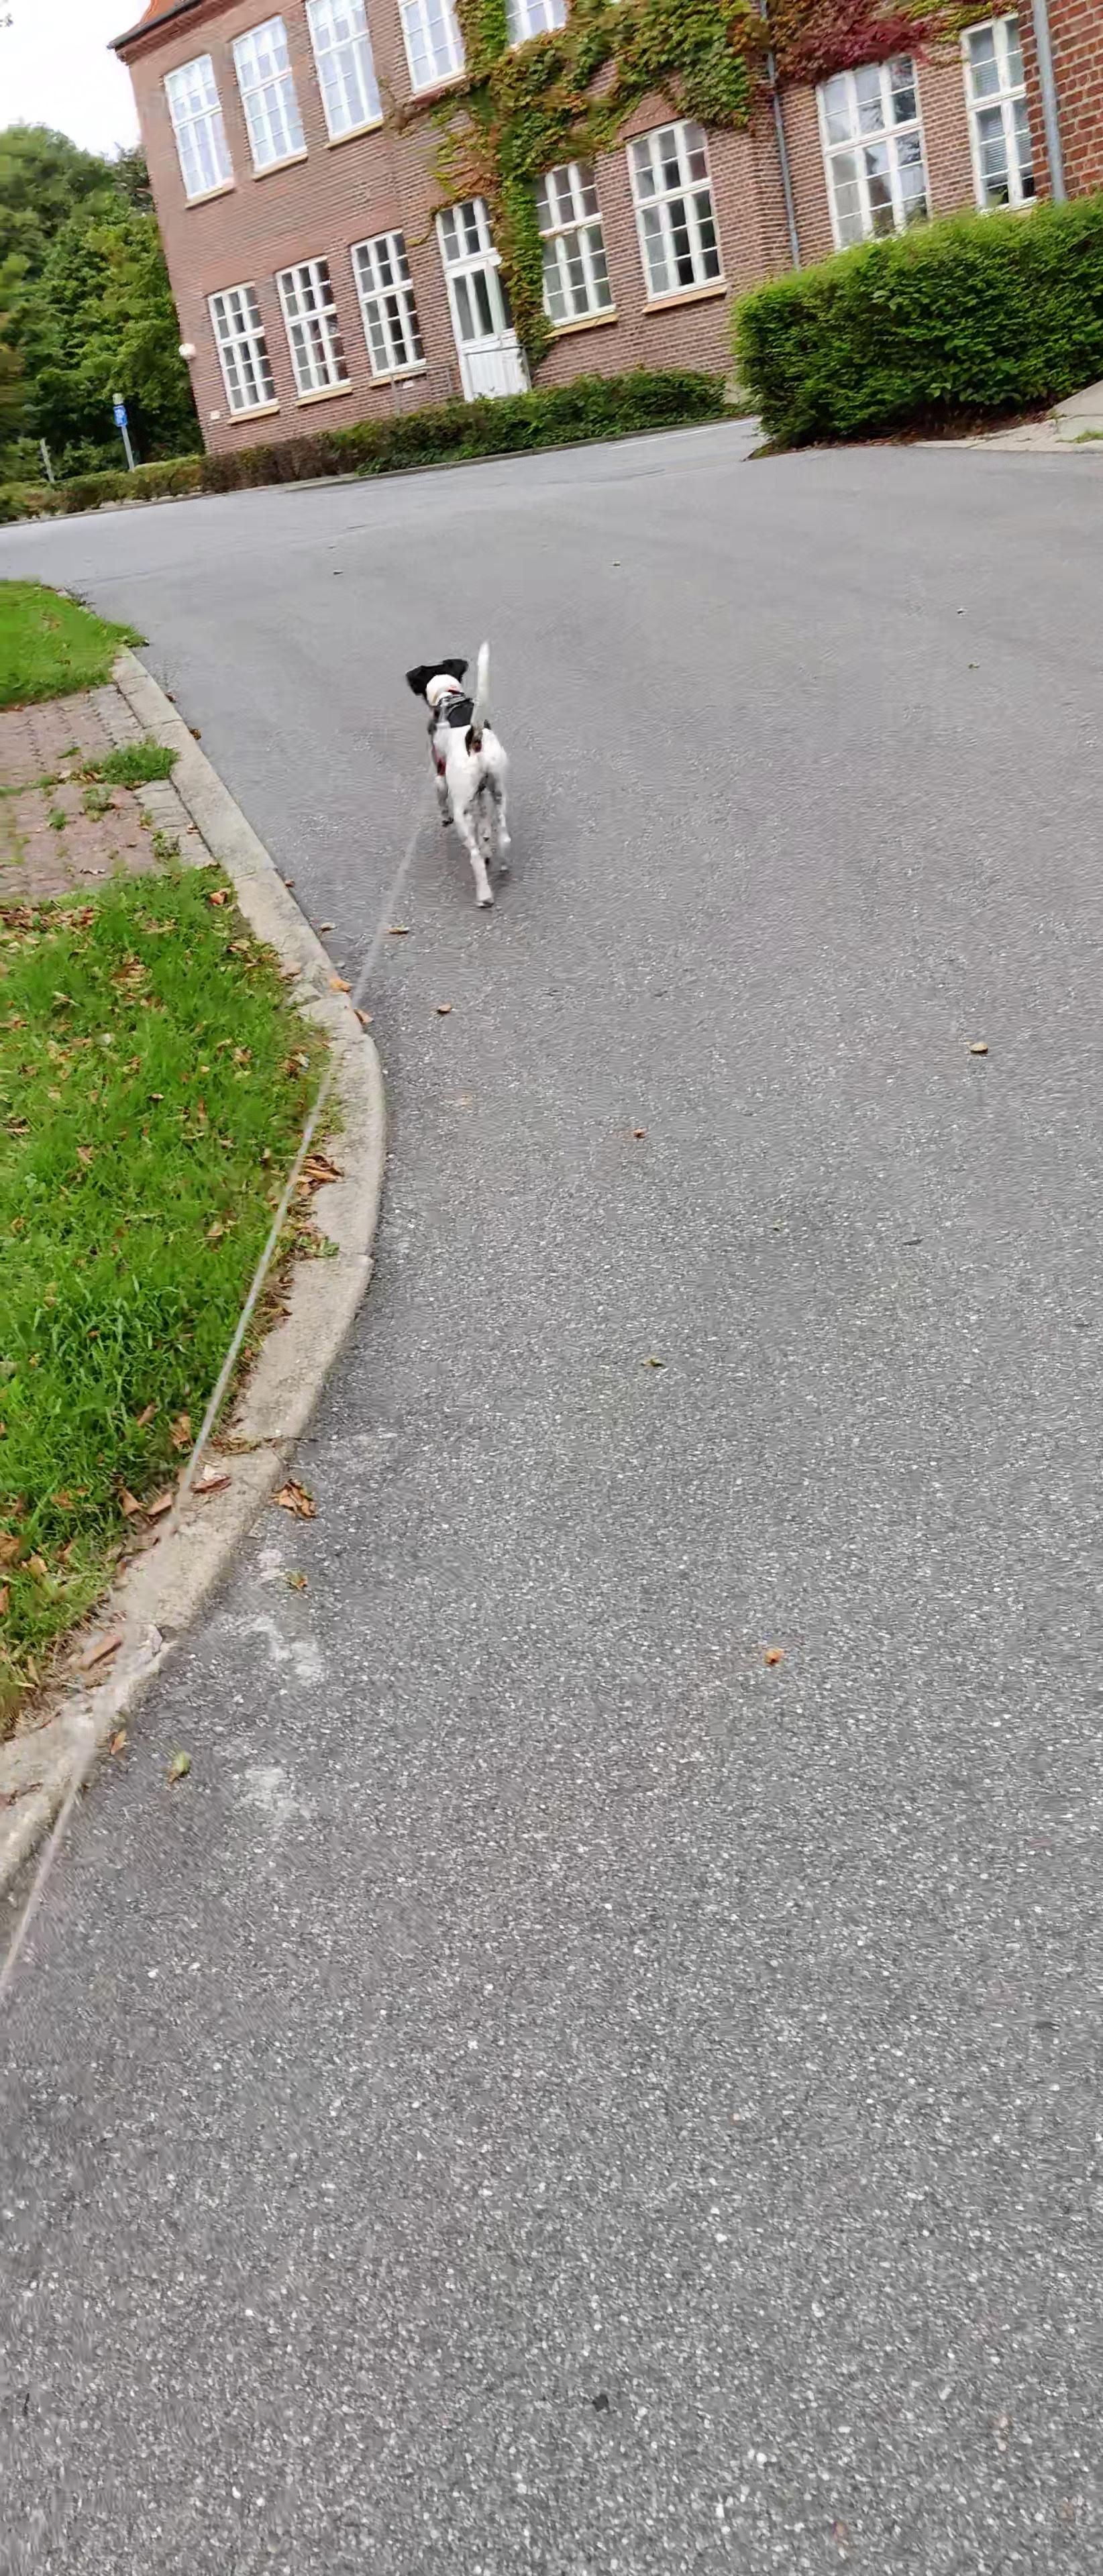Dog: (376, 631, 552, 923)
